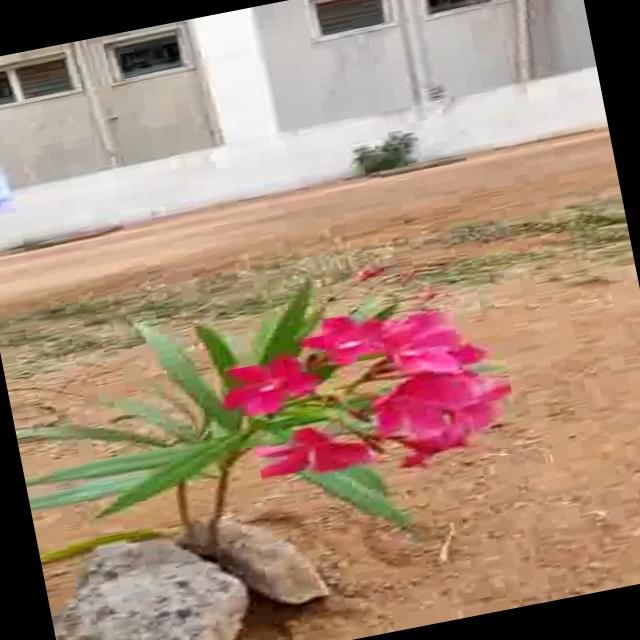Oleander: (12, 182, 584, 608)
